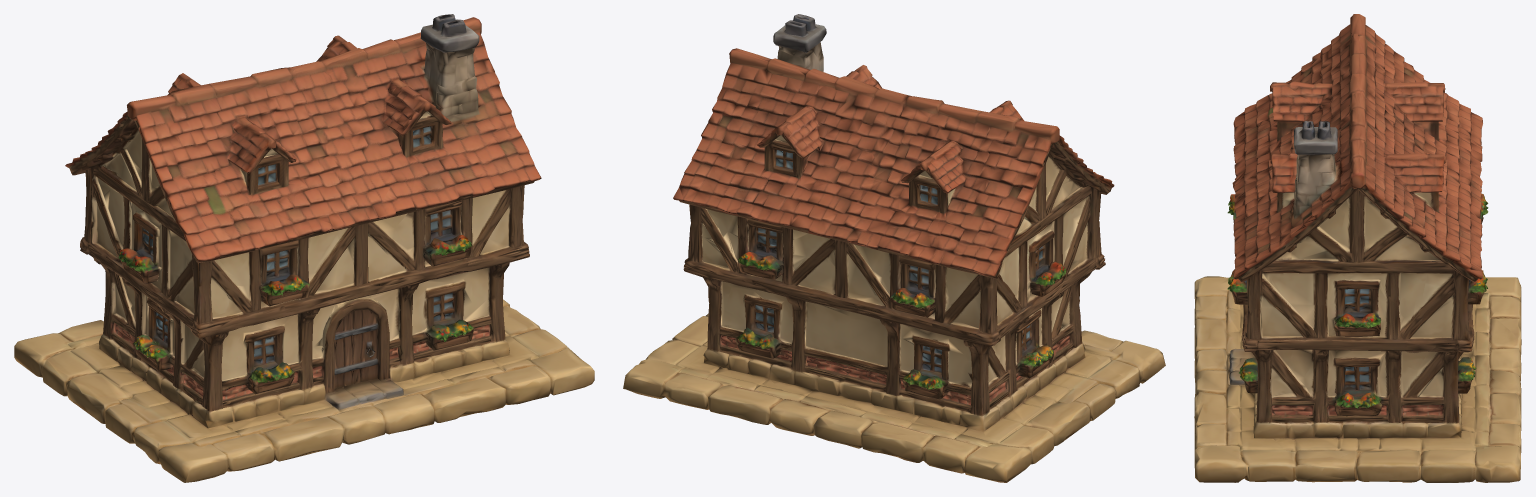
The model's file is casa_principal_vila_baltazar.glb.
The picture shows the model from 3 angles, left to right: view 1: azimuth 30°, elevation 25°; view 2: azimuth 150°, elevation 25°; view 3: azimuth 270°, elevation 25°; orthographic projection. The views are drawn at different scales.
Size of the model in its own units: 0.9792 by 0.7701 by 0.7107.
Materials: 1 (1 with a texture image).
